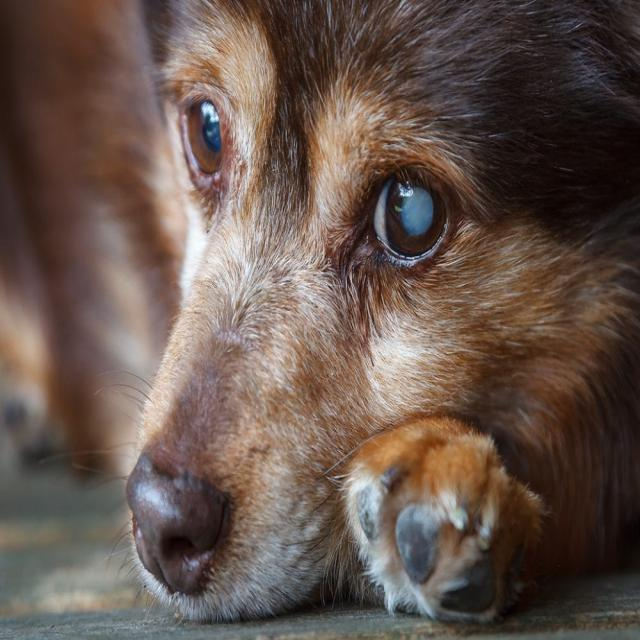eye: (367, 154, 456, 272), (175, 86, 230, 187)
